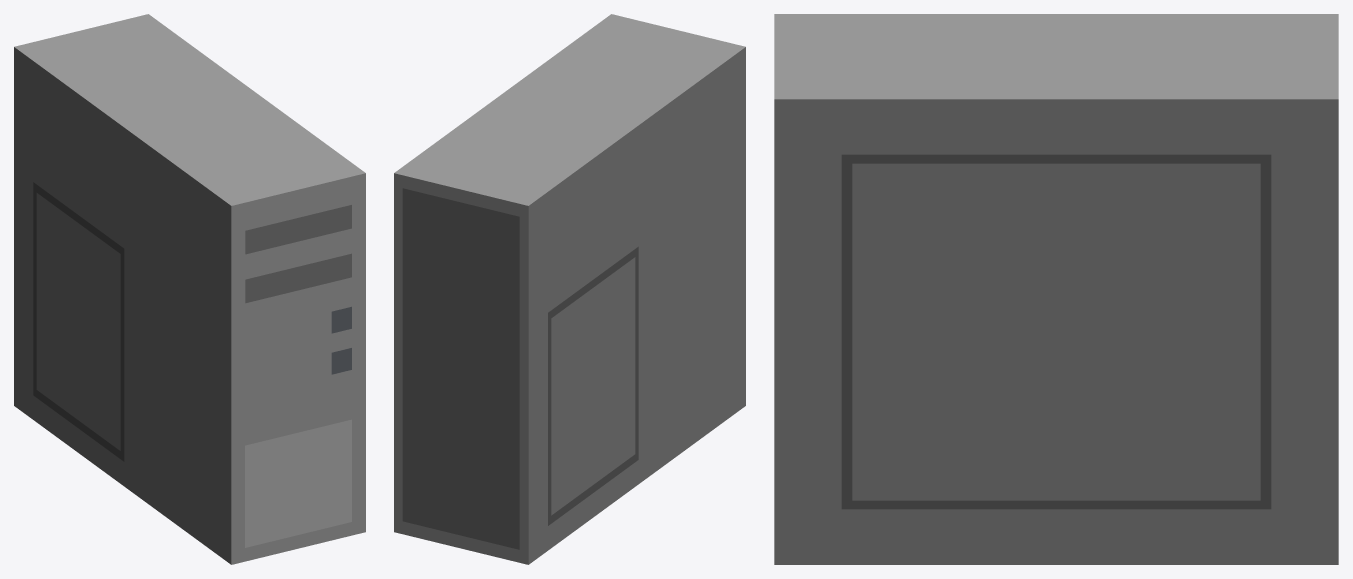
Rendered from SO_ComputerTower.fbx.
The picture shows the model from 3 angles, left to right: view 1: azimuth 30°, elevation 25°; view 2: azimuth 150°, elevation 25°; view 3: azimuth 270°, elevation 25°; orthographic projection. The views are drawn at different scales.
Parts seen in each view (by area): view 1: SO_ComputerTower; view 2: SO_ComputerTower; view 3: SO_ComputerTower.
Part boxes in pixels (x1,y1,x2,y2): SO_ComputerTower: (14,14,365,564); SO_ComputerTower: (394,14,745,564); SO_ComputerTower: (774,14,1338,564).
Bounding box in the file's own units: 0.351 × 0.8948 × 0.9824.
